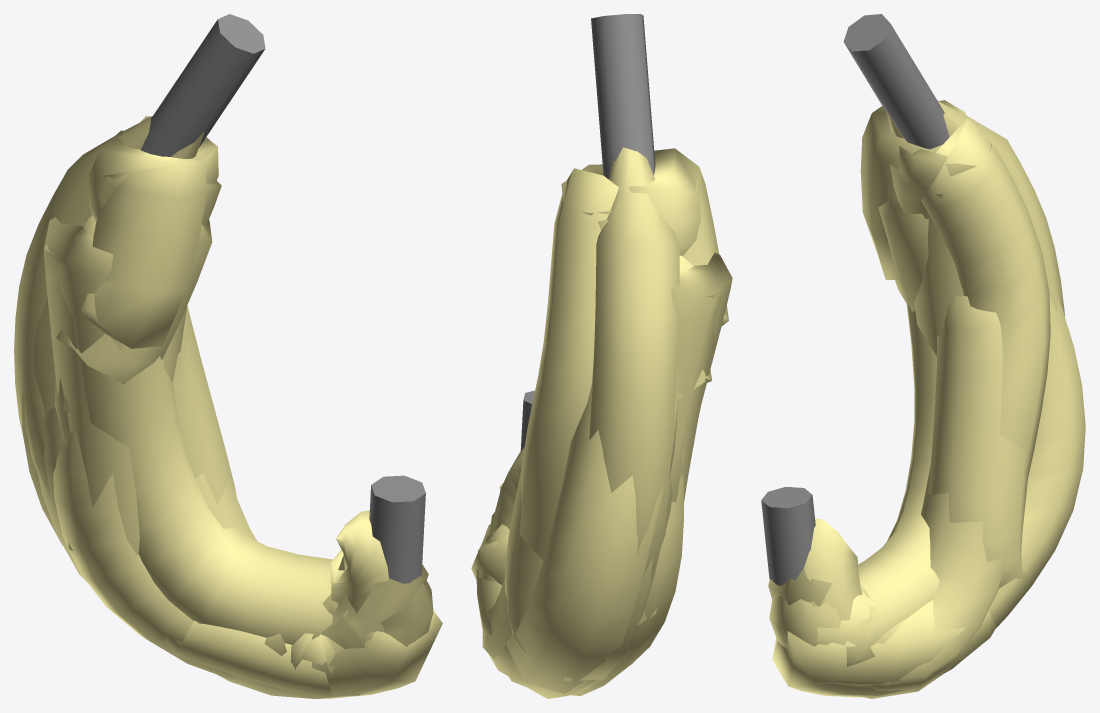
The model's file is banana.glb.
3 renders of one model, left to right at view 1: azimuth 30°, elevation 25°; view 2: azimuth 150°, elevation 25°; view 3: azimuth 270°, elevation 25°, orthographic. The views are drawn at different scales.
Visible parts, largest first — view 1: position; view 2: position; view 3: position.
Boxes of the visible parts, left/top/right/bottom form: position: left=14, top=14, right=442, bottom=698; position: left=471, top=14, right=732, bottom=698; position: left=761, top=14, right=1085, bottom=698.
Size of what is drawn, in the model's own units: 0.2359 by 0.5076 by 0.2325.
